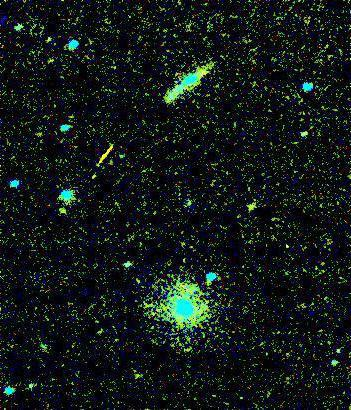star: (47, 198, 77, 228)
